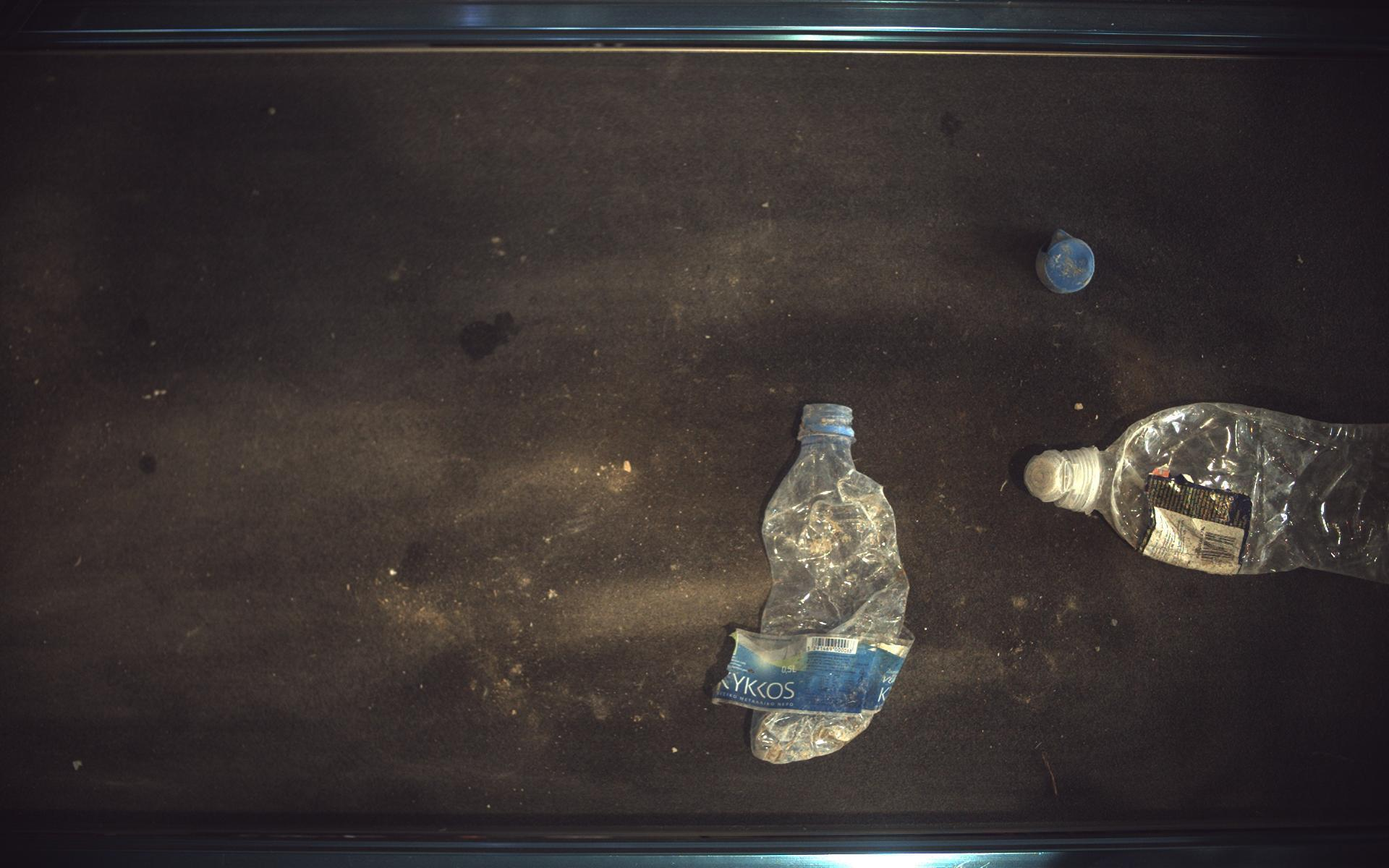general_w: (714, 404, 914, 765), (1027, 403, 1389, 584), (1038, 228, 1097, 294)
